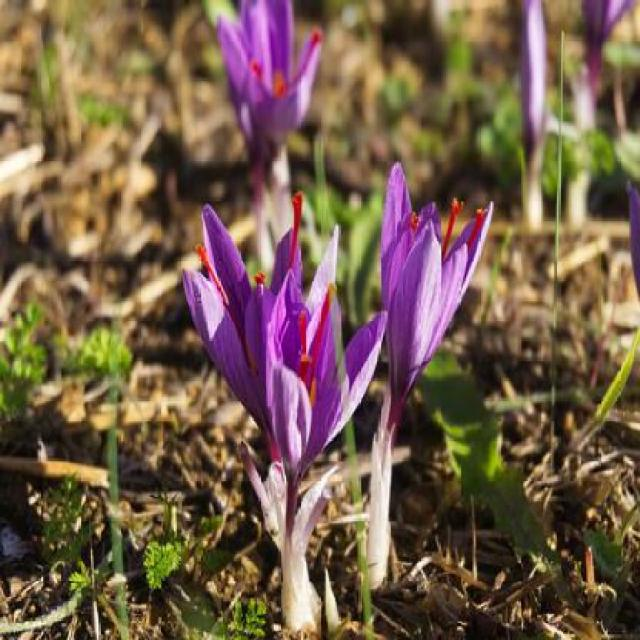Flower: (369, 148, 497, 415), (181, 217, 327, 443), (270, 270, 372, 488), (217, 0, 326, 172), (512, 0, 560, 165)
stigma: (194, 245, 232, 309), (284, 187, 307, 260), (441, 193, 464, 257), (295, 302, 316, 363)
